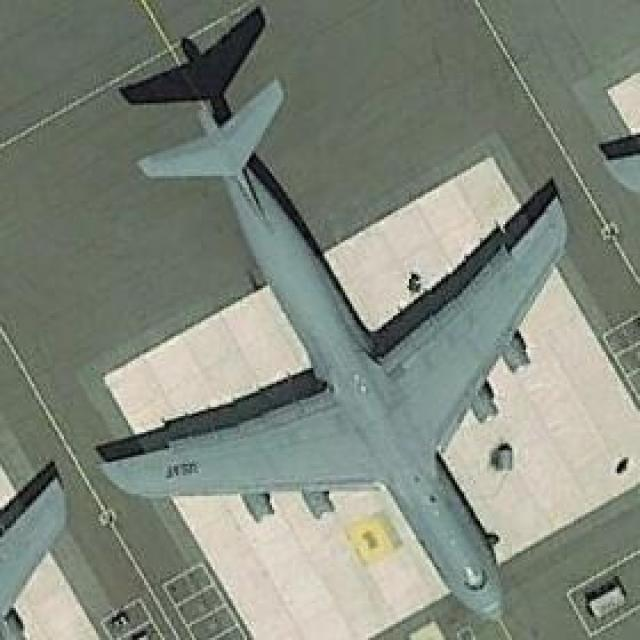C-5_TopDown: (85, 6, 574, 623)
